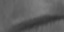LeftEyeFatigue: (8, 11, 63, 32)
